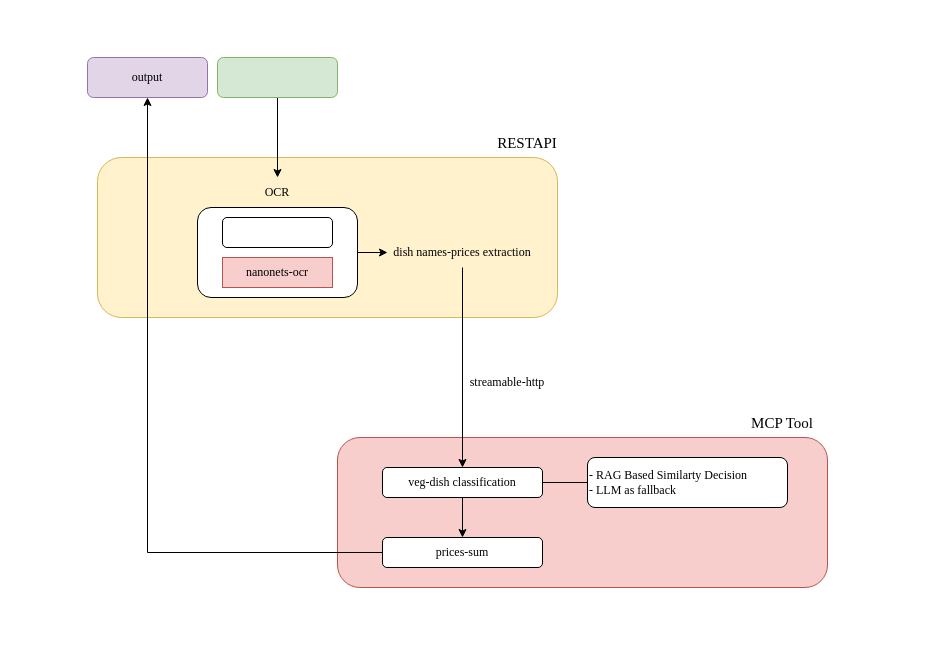
The diagram is 935 pixels wide and 645 high, and some of its shapes have lost their labels. The centre of each missing label's shape, as x and y in pixels:
"user inputs" goes at (277,77).
"VLM - gemini" goes at (277,232).
